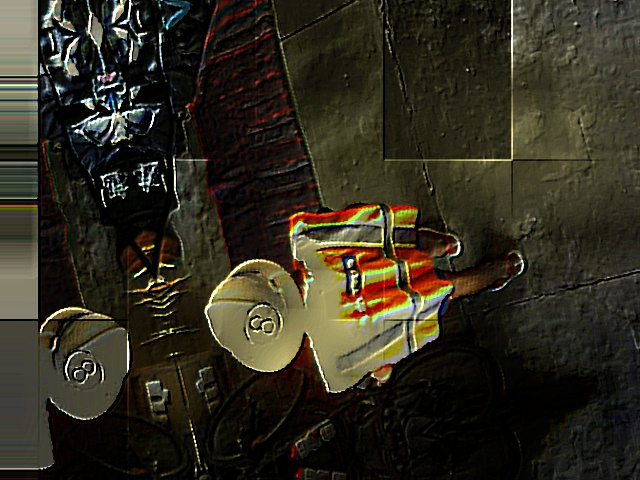eight: (237, 298, 286, 351)
